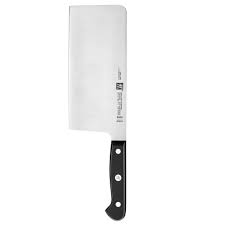knife: (64, 3, 129, 221)
